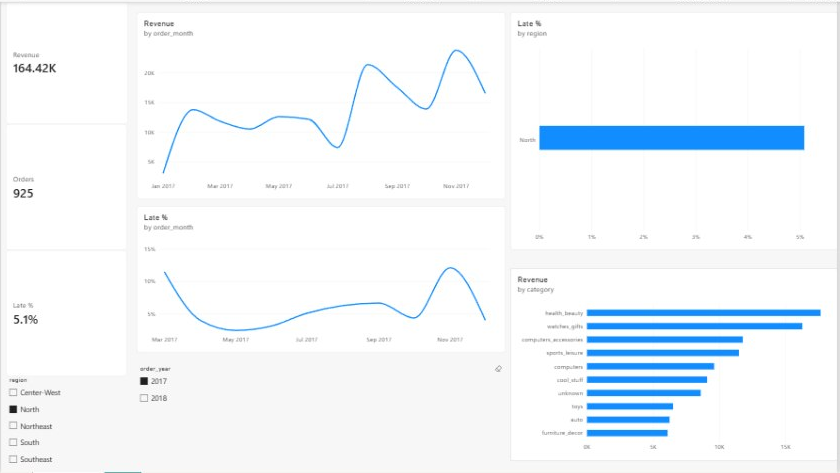

This screenshot's page, from the dashboard's own definition file:
{"tool":"powerbi","page":{"name":"Page 1","canvas":[1920,1080],"ordinal":0},"visuals":[{"type":"cardVisual","fields":{"Data":["Sales_Data.Revenue"]},"box":[10,0,280,280],"z":0},{"type":"cardVisual","fields":{"Data":["Sales_Data.Orders"]},"box":[10,290,280,280],"z":1000},{"type":"cardVisual","fields":{"Data":["Sales_Data.Late %"]},"box":[10,580,280,280],"z":2000},{"type":"lineChart","fields":{"Category":["Sales_Data.order_month"],"Y":["Sales_Data.Revenue"]},"box":[311,23.8,846.7,429.8],"z":3000},{"type":"lineChart","fields":{"Category":["Sales_Data.order_month"],"Y":["Sales_Data.Late %"]},"box":[311,468.7,846.7,337],"z":3001},{"type":"barChart","fields":{"Category":["Sales_Data.region"],"Y":["Sales_Data.Late %"]},"box":[1168,24,752,430],"z":3002},{"type":"barChart","fields":{"Category":["Sales_Data.category"],"Y":["Sales_Data.Revenue"]},"box":[1168,469,752,337],"z":3003},{"type":"slicer","fields":{"Values":["Sales_Data.region"]},"box":[10,870,280,210],"z":3004},{"type":"slicer","fields":{"Values":["Sales_Data.order_year"]},"box":[311,870,847,210],"z":3005}]}

Visuals, with their boxes in screenshot pixels (x1, y1, x2, y2), scaled from the page's 1920x1080 canvas onto the 840x473 screenshot:
cardVisual - Sales_Data.Revenue: crop(4, 0, 127, 123)
cardVisual - Sales_Data.Orders: crop(4, 127, 127, 250)
cardVisual - Sales_Data.Late %: crop(4, 254, 127, 377)
lineChart - Sales_Data.order_month x Sales_Data.Revenue: crop(136, 10, 506, 199)
lineChart - Sales_Data.order_month x Sales_Data.Late %: crop(136, 205, 506, 353)
barChart - Sales_Data.region x Sales_Data.Late %: crop(511, 11, 839, 199)
barChart - Sales_Data.category x Sales_Data.Revenue: crop(511, 205, 839, 353)
slicer - Sales_Data.region: crop(4, 381, 127, 472)
slicer - Sales_Data.order_year: crop(136, 381, 507, 472)
